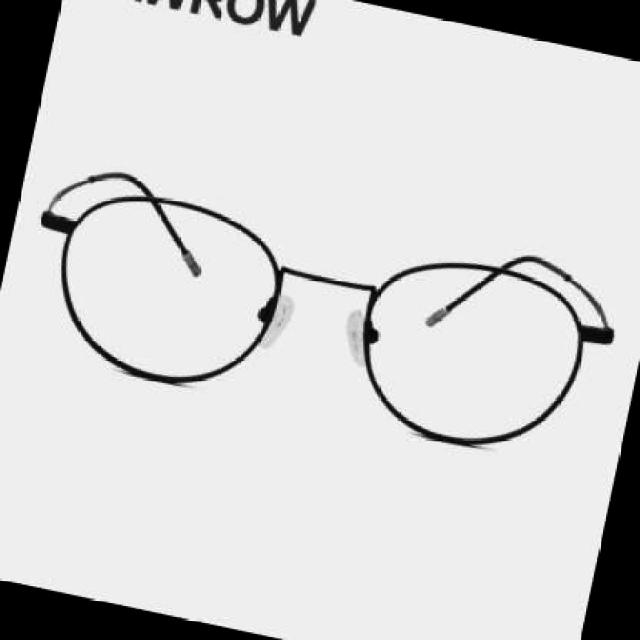glasses: (10, 157, 627, 474)
